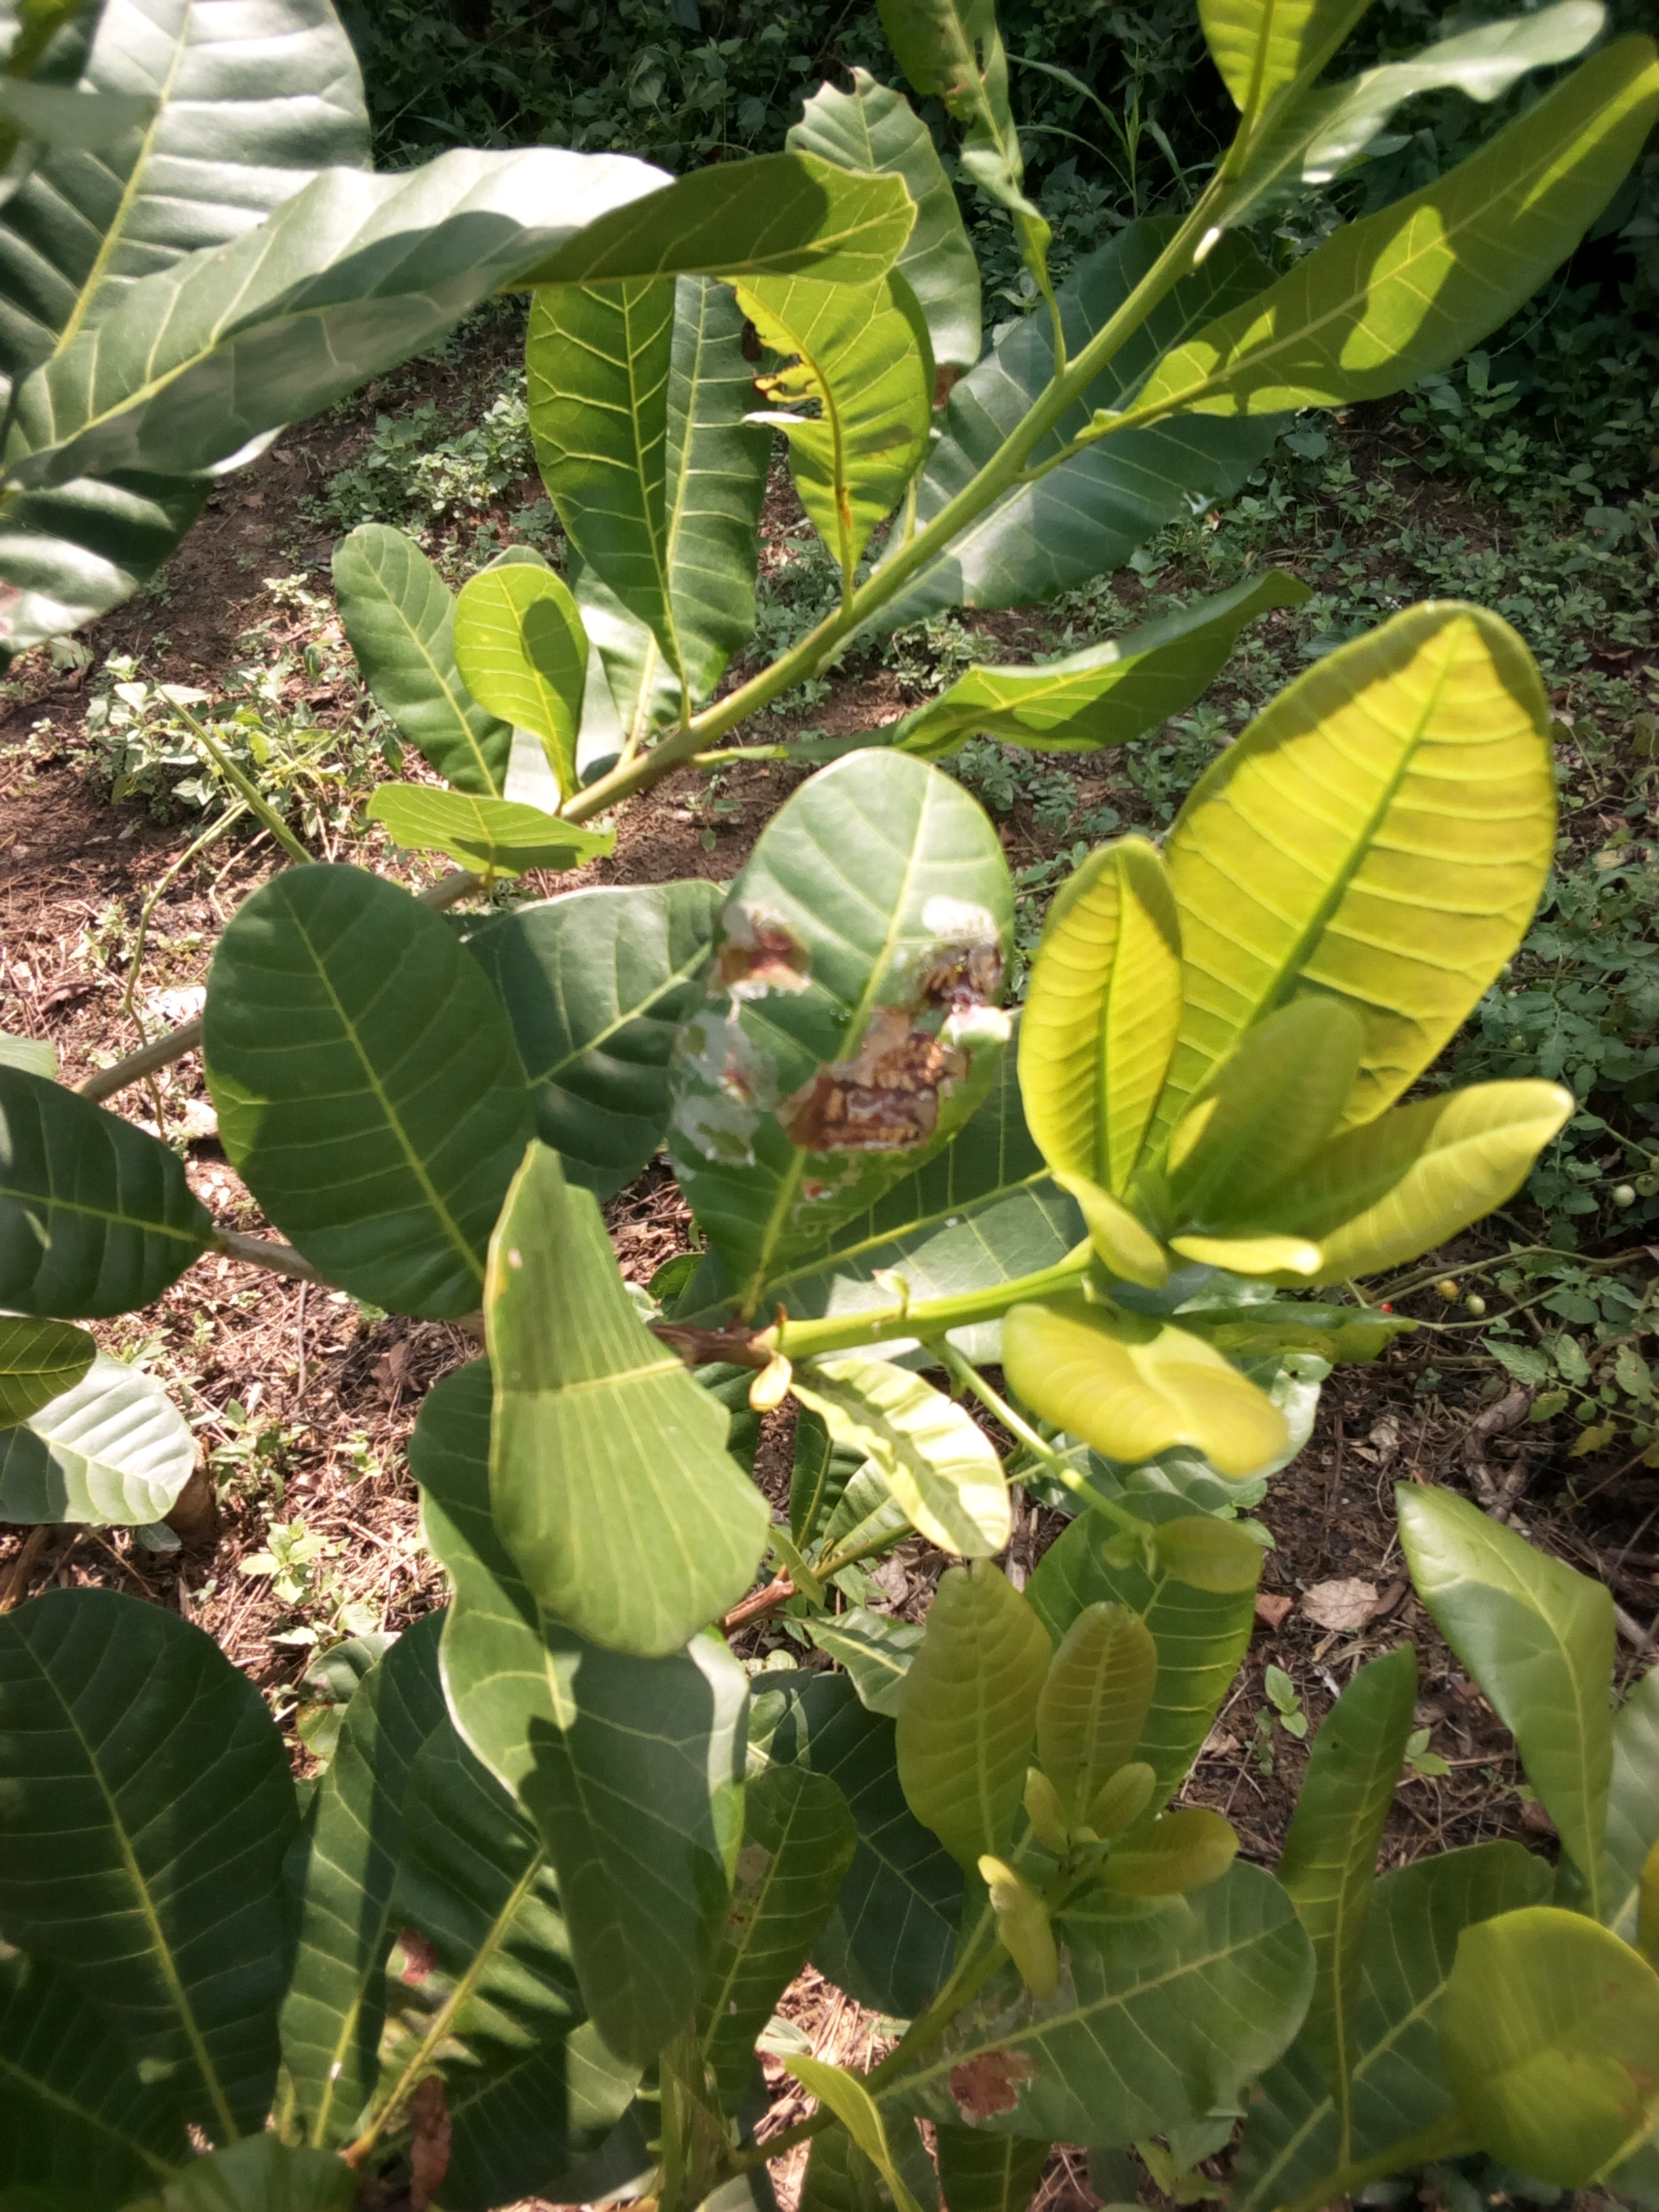Dysdercus wolkerii: (643, 702, 1073, 1313)
